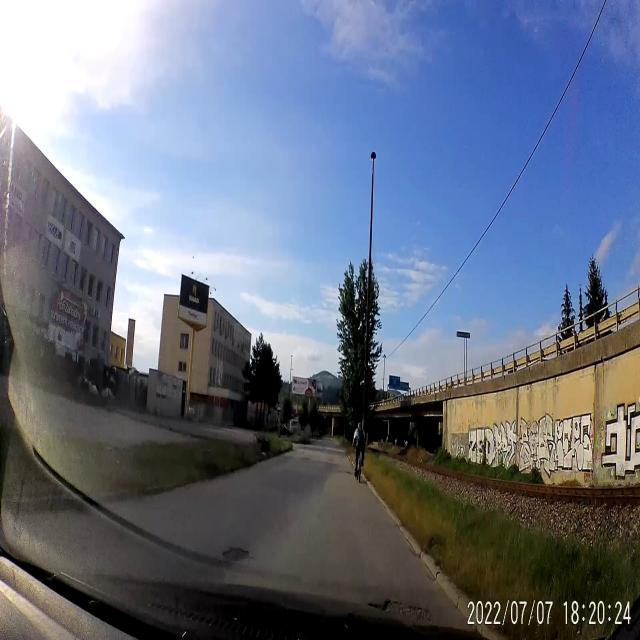Pothole: (364, 596, 434, 626), (220, 544, 256, 564), (336, 470, 352, 474), (302, 456, 310, 461)
